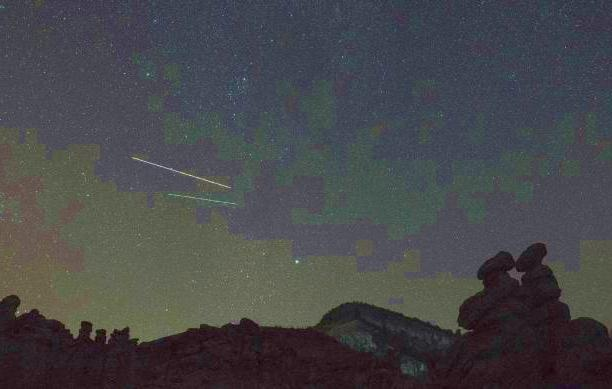meteorite: (125, 149, 242, 195), (177, 194, 255, 214)
